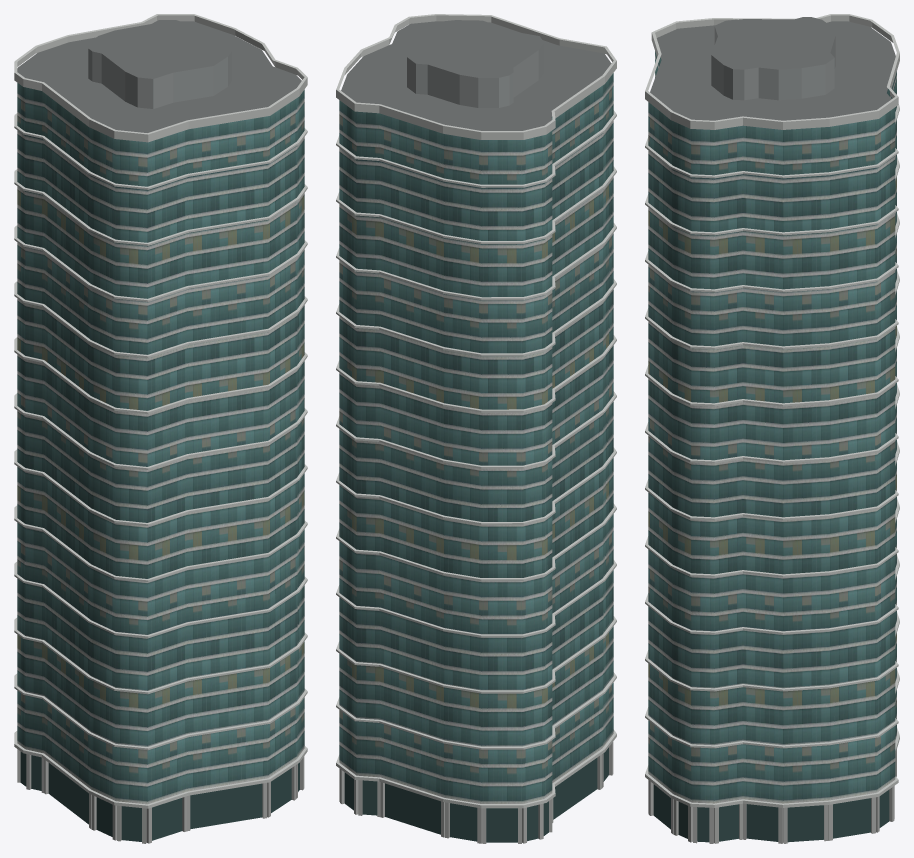
The model's file is lumina.glb.
The picture shows the model from 3 angles, left to right: view 1: azimuth 30°, elevation 25°; view 2: azimuth 150°, elevation 25°; view 3: azimuth 270°, elevation 25°; orthographic projection.
Visible parts, largest first — view 1: lumina; view 2: lumina; view 3: lumina.
Boxes of the visible parts, box(x1,y1,x2,y2) form: lumina: box(14, 14, 307, 843); lumina: box(336, 14, 616, 843); lumina: box(645, 14, 899, 843).
Size of the model in its own units: 37.8 by 122 by 37.7.
2 materials, 2 textured.
